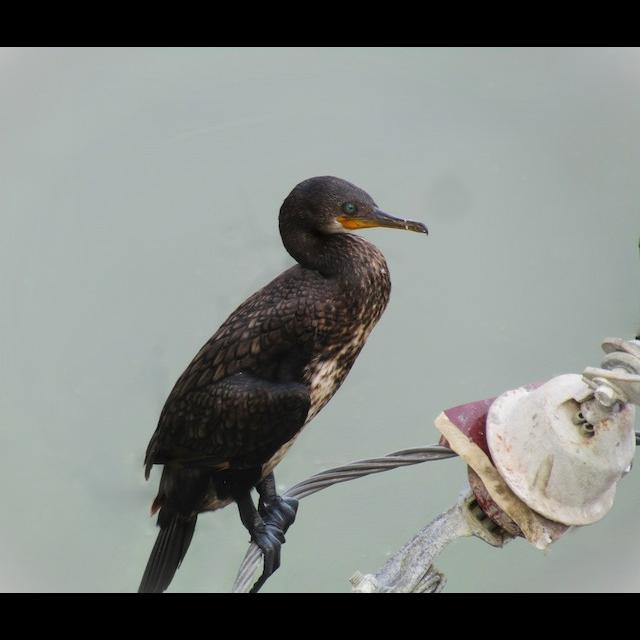cormorant: (134, 173, 430, 582)
